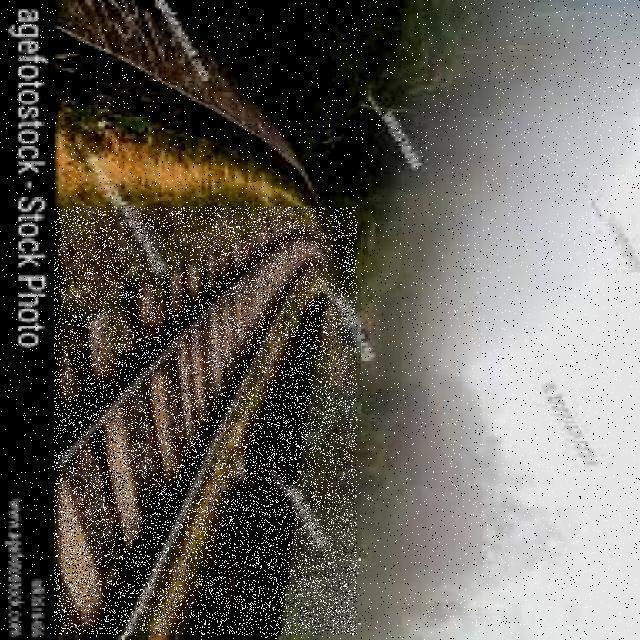rail: (55, 209, 358, 636)
